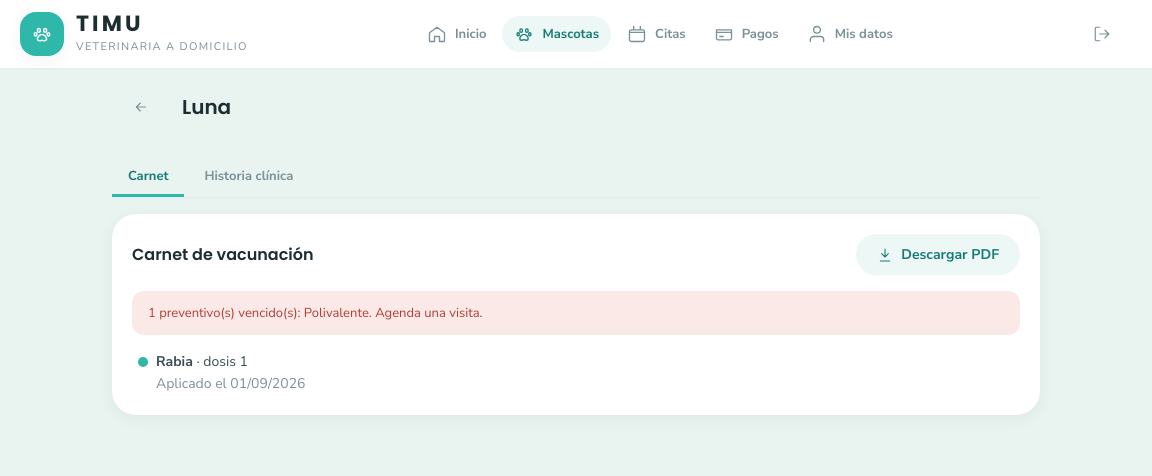
Test: Portal: navegación y mascotas › muestra el carnet y la historia de la mascota, y descarga el PDF
expect the text "1 preventivo(s) vencido(s): Polivalente. Agenda una visita." is shown: met, box [132, 291, 1020, 335]
Click the button "Descargar PDF": point(938, 255) [856, 234, 1020, 275]
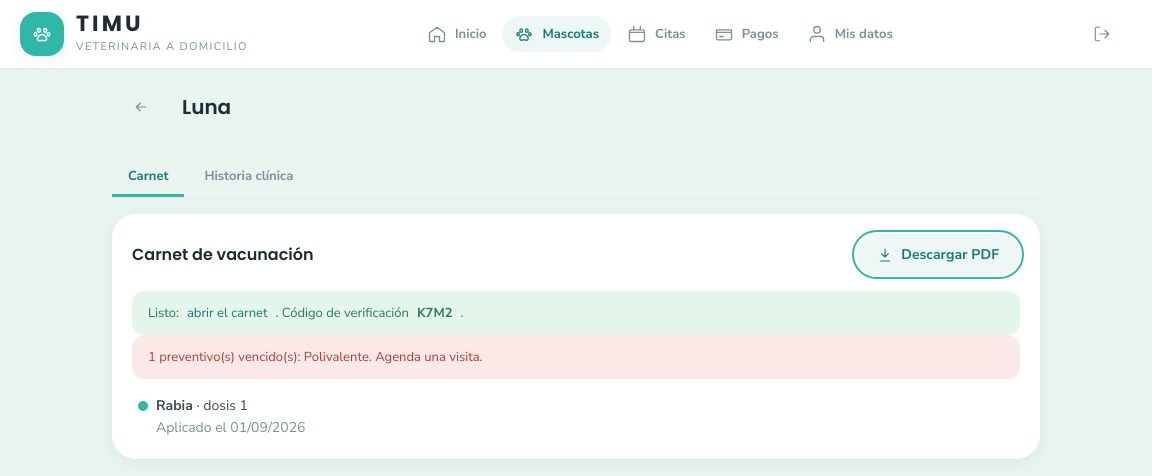
Click the tab "Historia clínica": point(249, 178) [188, 158, 309, 197]
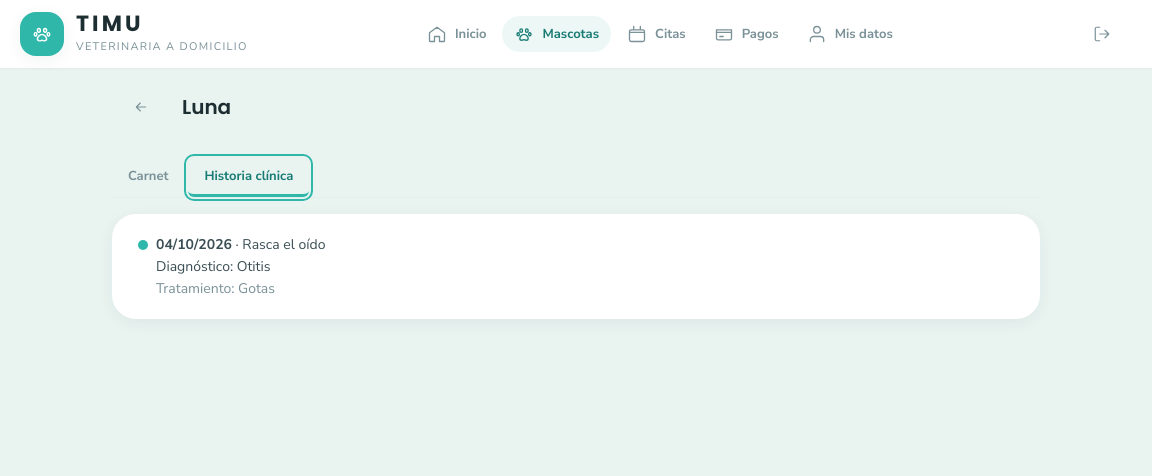
expect the text "Diagnóstico: Otitis" is shown: met, box [156, 257, 270, 276]
